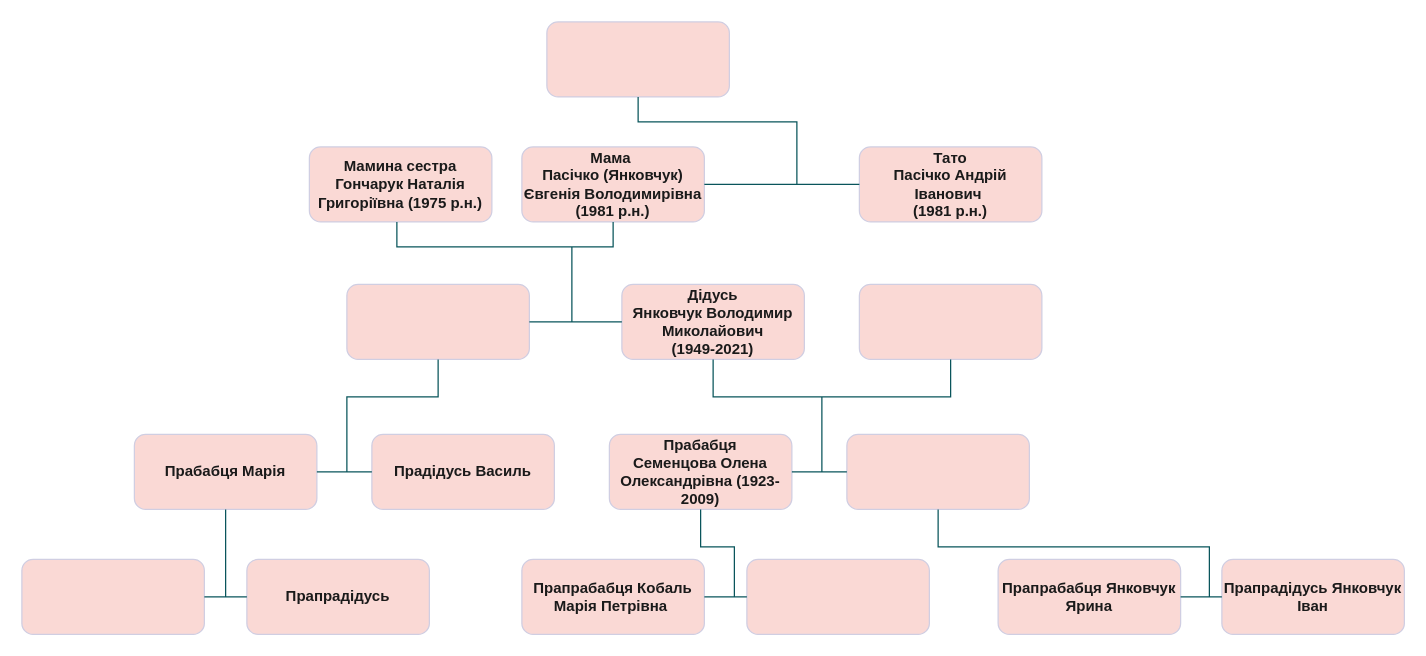
The diagram is 1426 pixels wide and 656 high, and some of its shapes have lost their labels. The shapes that lost their labels are listed below. From the top down, each one's centre as x and y in pixels, then its label:
At (x=637, y=59): "(Я) Пасічко Софія Андріївна (2006 р.н.)".
At (x=437, y=321): "Бабуся Кривогубченко Ніна Василівна (1954 р.н)".
At (x=950, y=321): "Дідусева сестра Янковчук Ольга Миколаївна (1952 р.н.)".
At (x=937, y=471): "Прадідусь Янковчук Микола Іванович (1918-1972)".
At (x=112, y=596): "Прапрабабця Путишина Домаха Григоріївна (1900-1972)".
At (x=837, y=596): "Прапрадідусь Семенцов Олександр Іванович".
